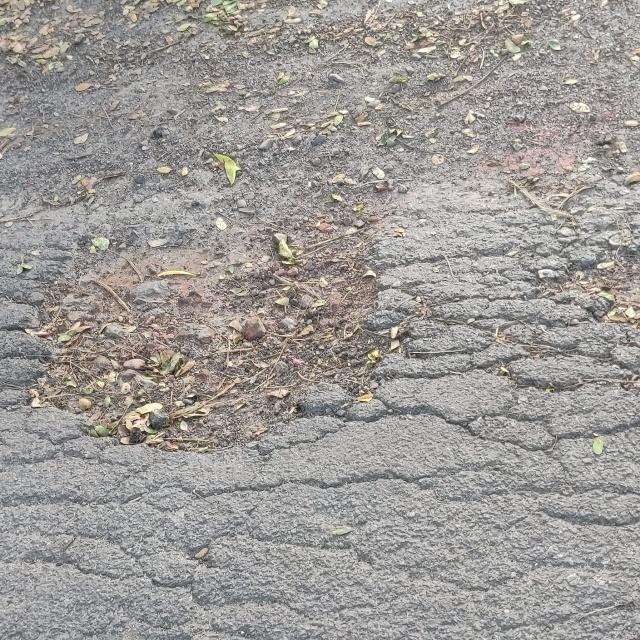Surface Erosion: (26, 8, 606, 606)
